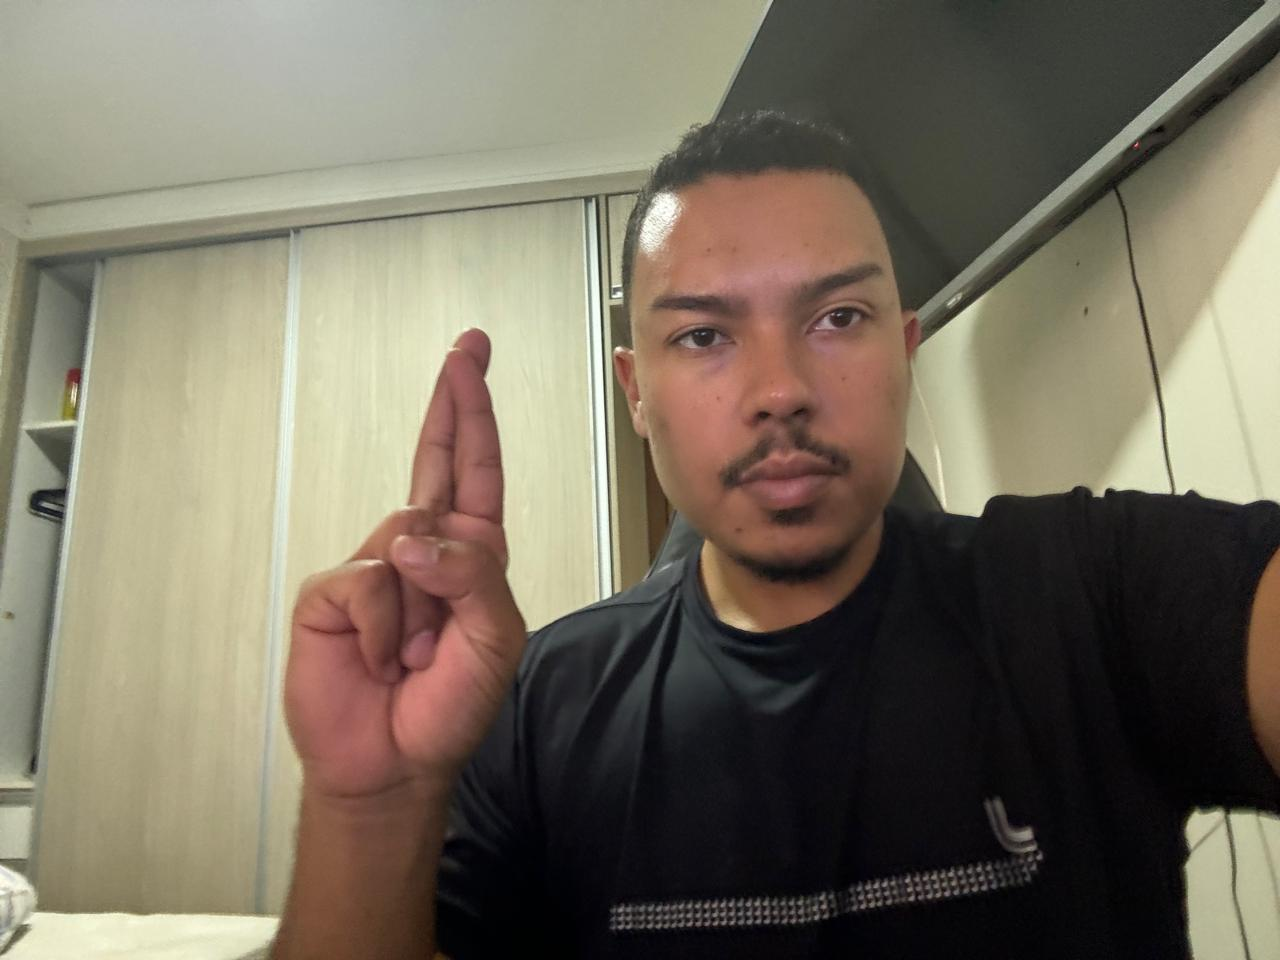r: (278, 318, 533, 807)
